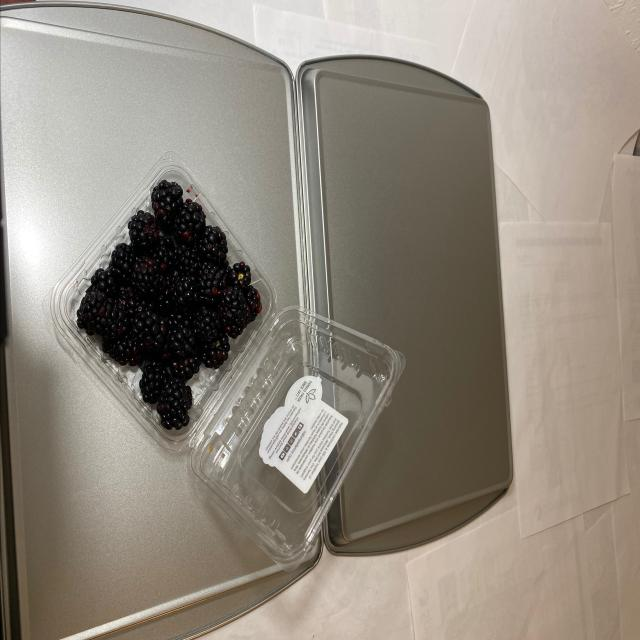blackberries: (72, 173, 291, 473)
